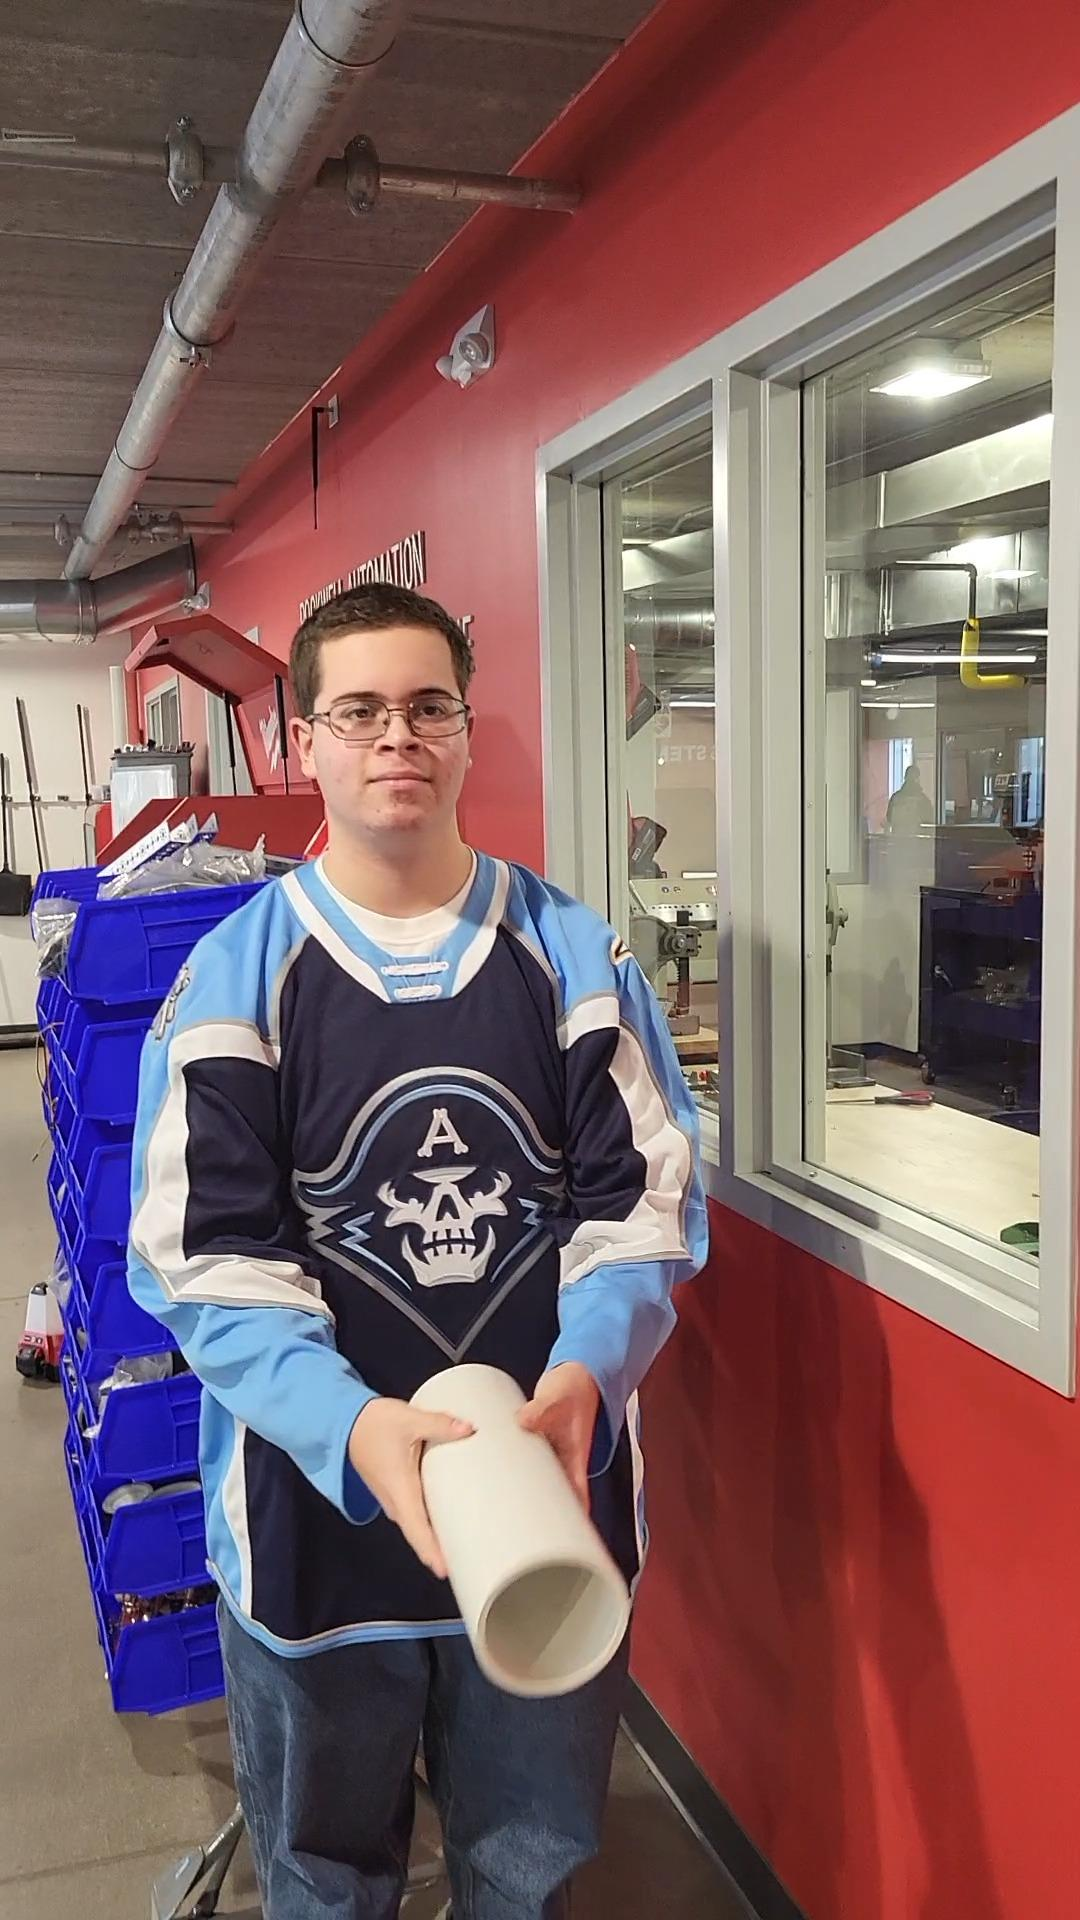coral: (404, 1358, 644, 1706)
